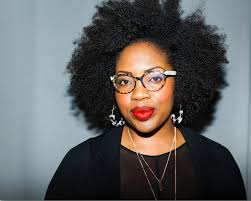no-mask: (105, 24, 187, 135)
